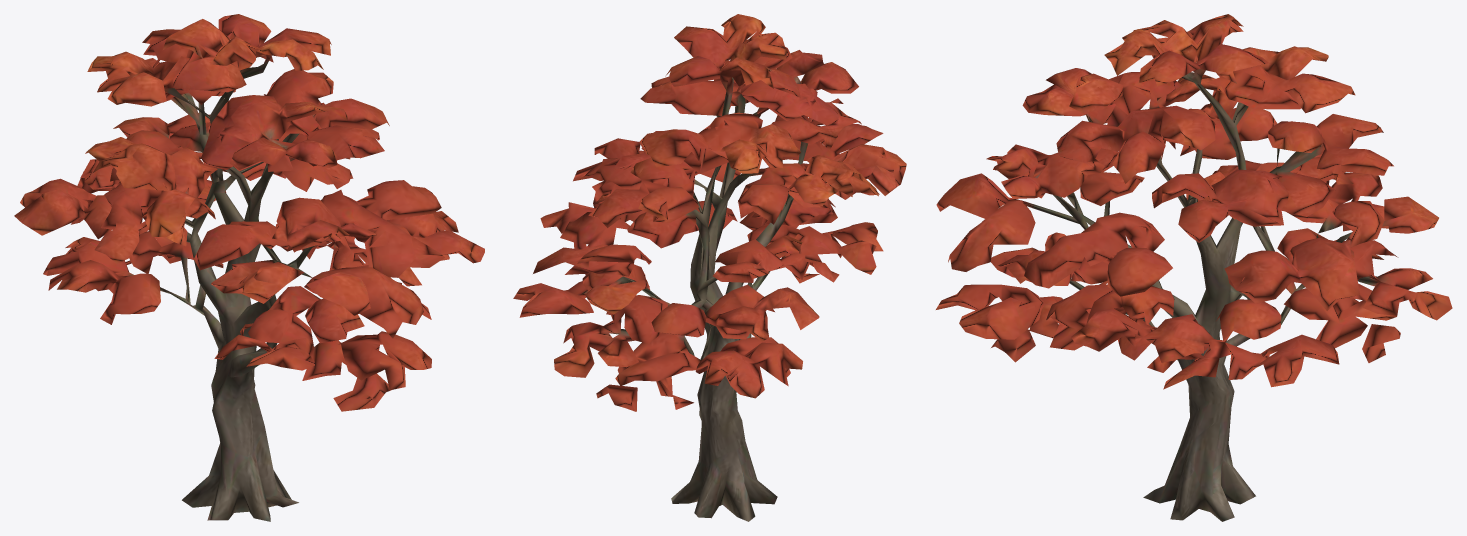
The model's file is prop_phong_do.a5b7fac599.glb.
3 renders of one model, left to right at view 1: azimuth 30°, elevation 25°; view 2: azimuth 150°, elevation 25°; view 3: azimuth 270°, elevation 25°, orthographic. The views are drawn at different scales.
Parts seen in each view (by area): view 1: prop_phong_do; view 2: prop_phong_do; view 3: prop_phong_do.
Boxes of the visible parts, x1=… form: prop_phong_do: x1=14, y1=14, x2=484, y2=521; prop_phong_do: x1=513, y1=14, x2=906, y2=521; prop_phong_do: x1=936, y1=14, x2=1452, y2=521.
Size of what is drawn, in the model's own units: 7 by 9 by 8.91.
1 material, 1 textured.
